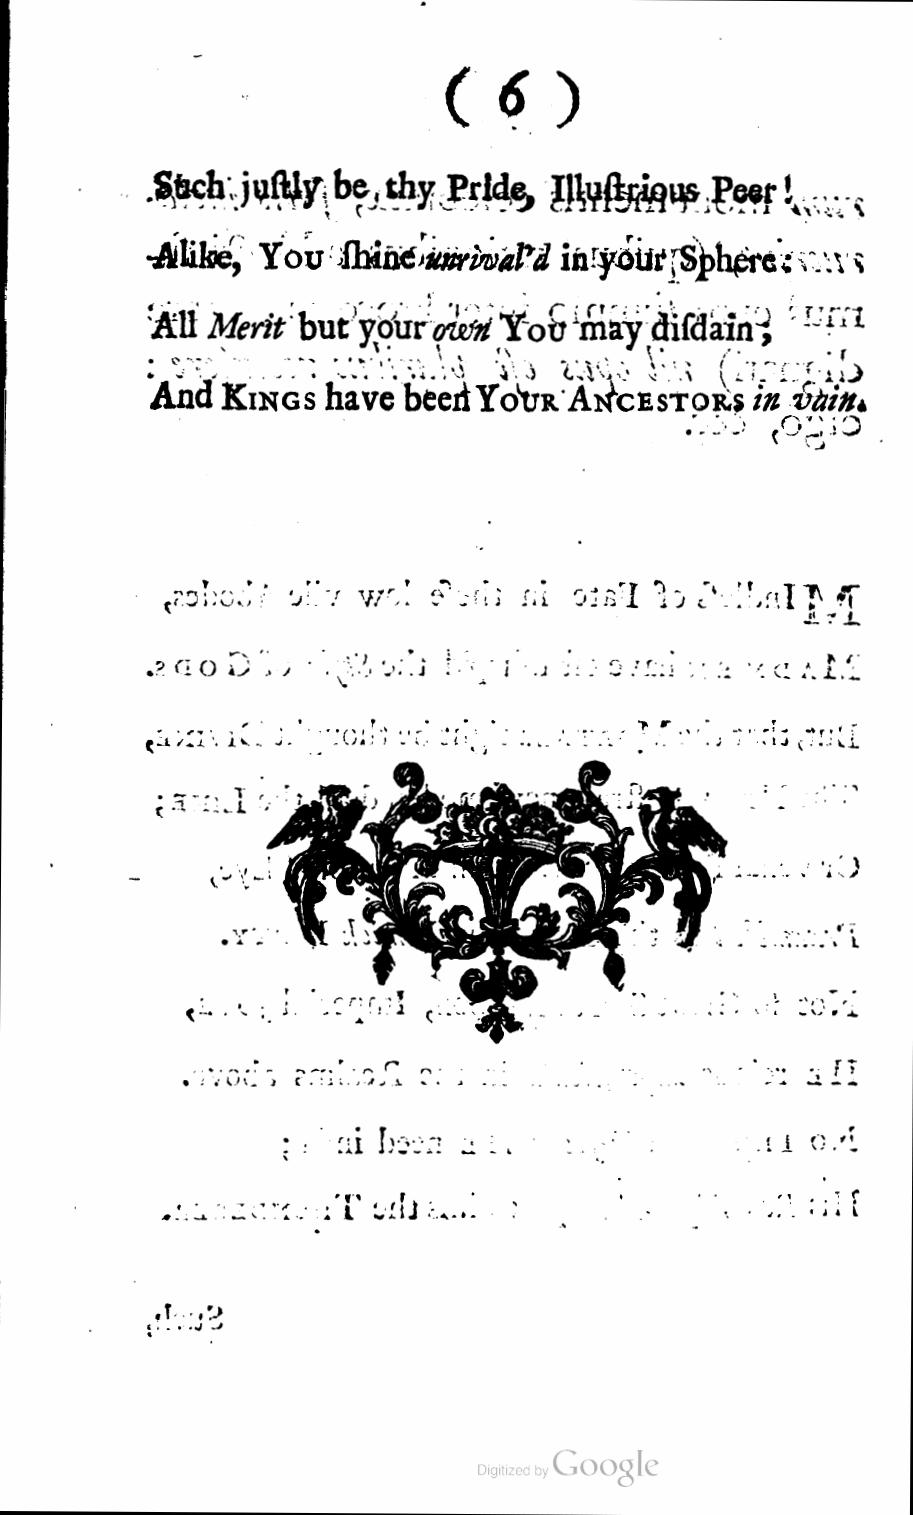bottom_p: (149, 167, 870, 421)
page_num: (495, 63, 532, 128)
viz: (262, 756, 731, 1044)
